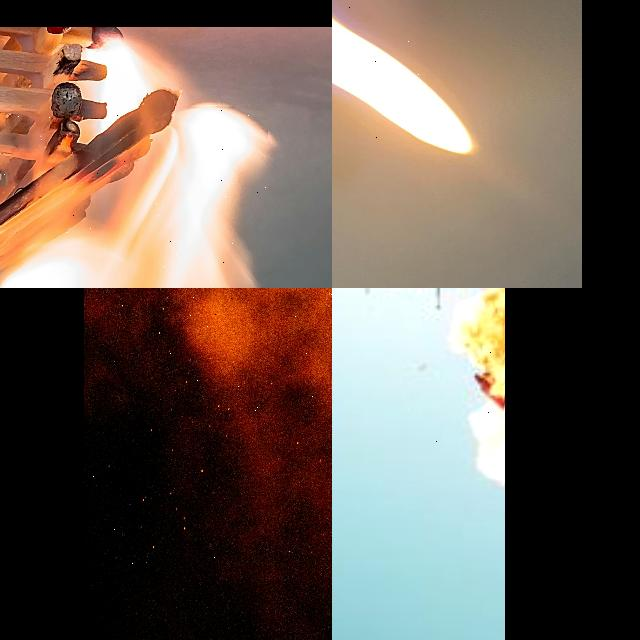fire: (85, 288, 332, 579), (7, 107, 268, 288), (332, 15, 474, 155), (451, 288, 504, 486)
